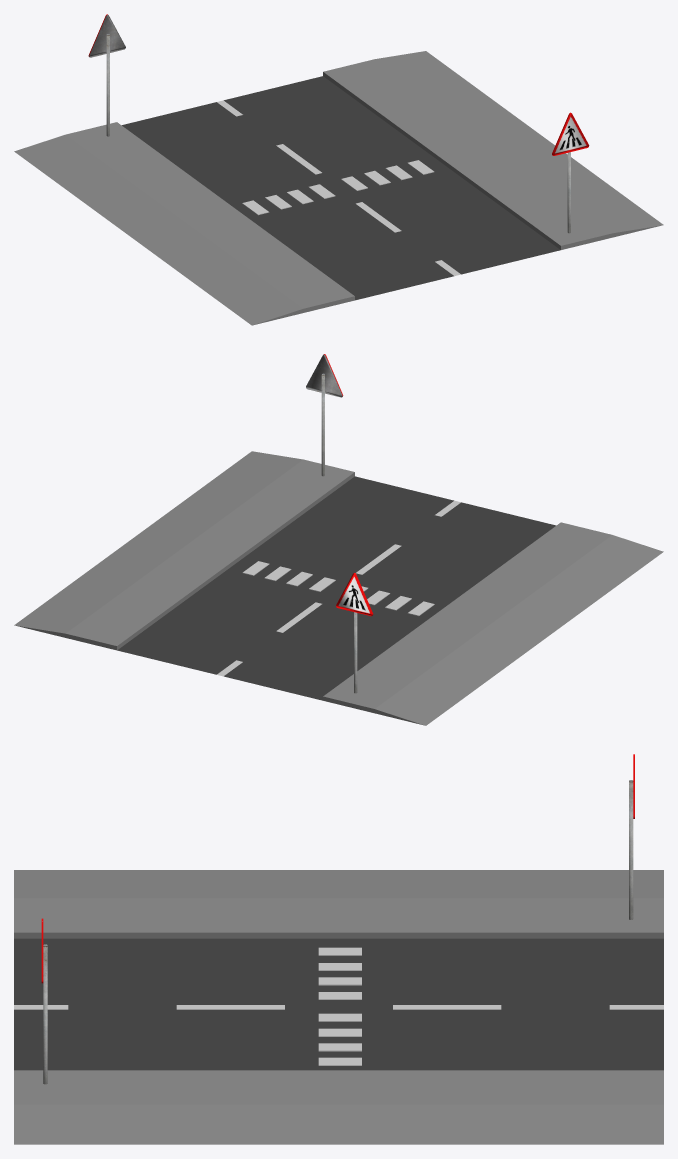
Rendered from streetCrossing.gltf.
The picture shows the model from 3 angles, top to bottom: view 1: azimuth 30°, elevation 25°; view 2: azimuth 150°, elevation 25°; view 3: azimuth 270°, elevation 25°; orthographic projection. The views are drawn at different scales.
Visible parts, largest first — view 1: Straight Road crossing, neuro_pedestrian_obj; view 2: Straight Road crossing, neuro_pedestrian_obj; view 3: Straight Road crossing, neuro_pedestrian_obj.
Boxes of the visible parts, left/top/right/bottom form: Straight Road crossing: left=14, top=51, right=663, bottom=325; neuro_pedestrian_obj: left=88, top=14, right=589, bottom=233; Straight Road crossing: left=14, top=451, right=663, bottom=725; neuro_pedestrian_obj: left=306, top=354, right=373, bottom=693; Straight Road crossing: left=14, top=870, right=663, bottom=1144; neuro_pedestrian_obj: left=41, top=754, right=634, bottom=1084.
Size of the model in its own units: 20 by 5.8 by 20.
Materials: 4 (1 with a texture image).
